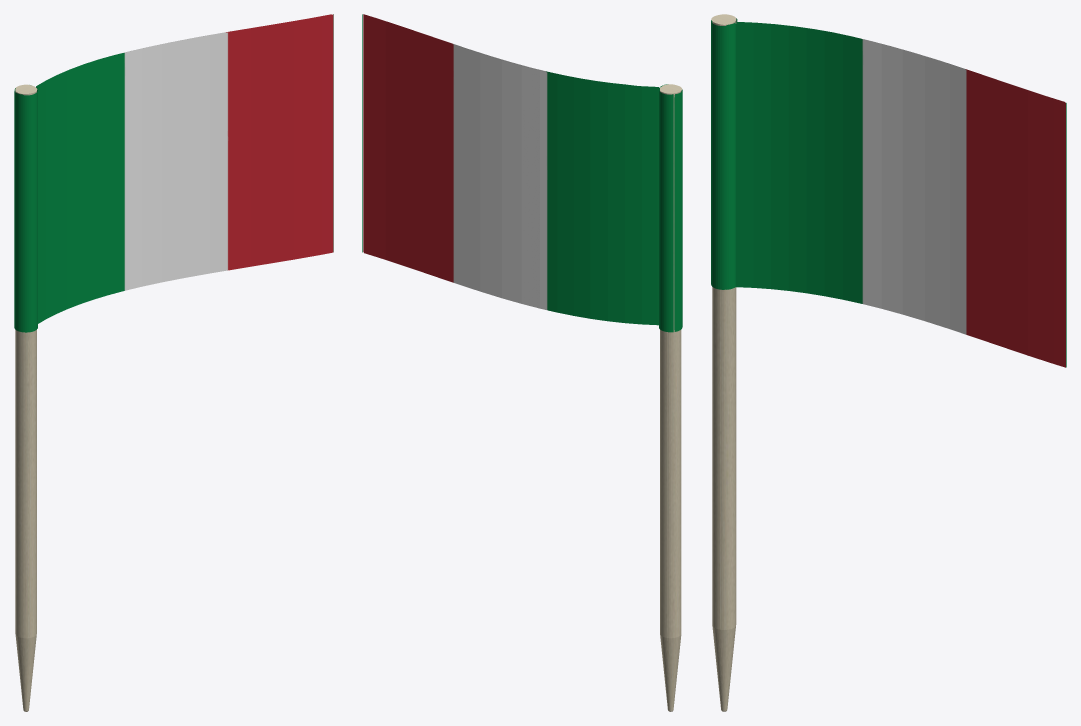
Rendered from ItalyFlag.fbx.
3 views of the same model, side by side, from view 1: azimuth 30°, elevation 25°; view 2: azimuth 150°, elevation 25°; view 3: azimuth 330°, elevation 25° (orthographic). The views are drawn at different scales.
Parts seen in each view (by area): view 1: Toothpick flag; view 2: Toothpick flag; view 3: Toothpick flag.
Part boxes in pixels (x1,y1,x2,y2): Toothpick flag: [14, 14, 333, 711]; Toothpick flag: [362, 14, 682, 711]; Toothpick flag: [711, 14, 1066, 711].
Bounding box in the file's own units: 3.42 × 6.4 × 0.3623.
1 material, 1 textured.
